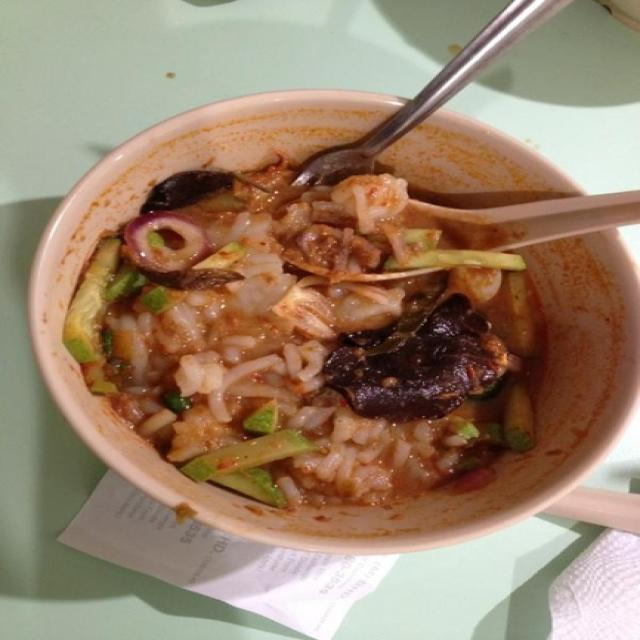面条主食: (40, 44, 631, 578)
